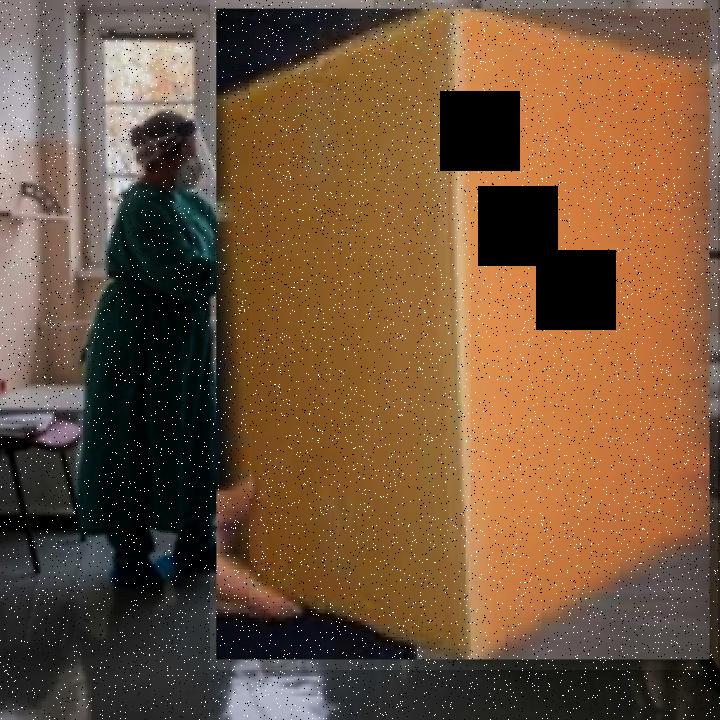box: (210, 0, 718, 670)
